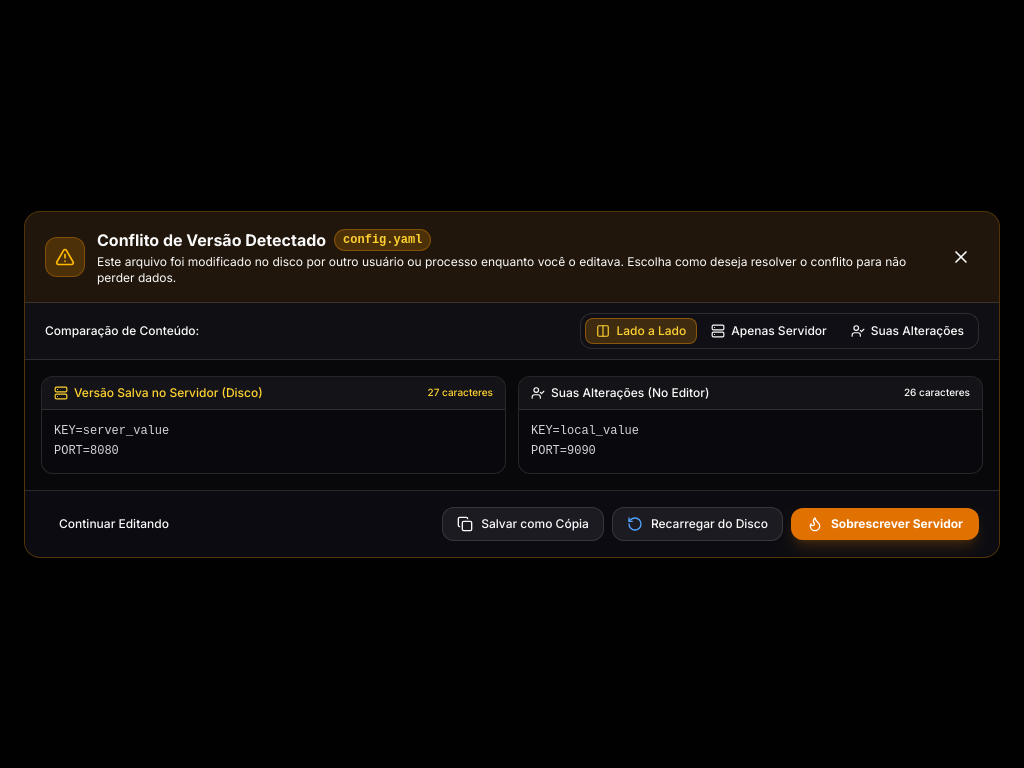
Test: FileConflictModal Component › switches between view modes (split, server-only, local-only)
This screenshot has width=1024, height=768.
Click server only
Click the button "Apenas Servidor" at (769, 330), box [701, 318, 837, 342]
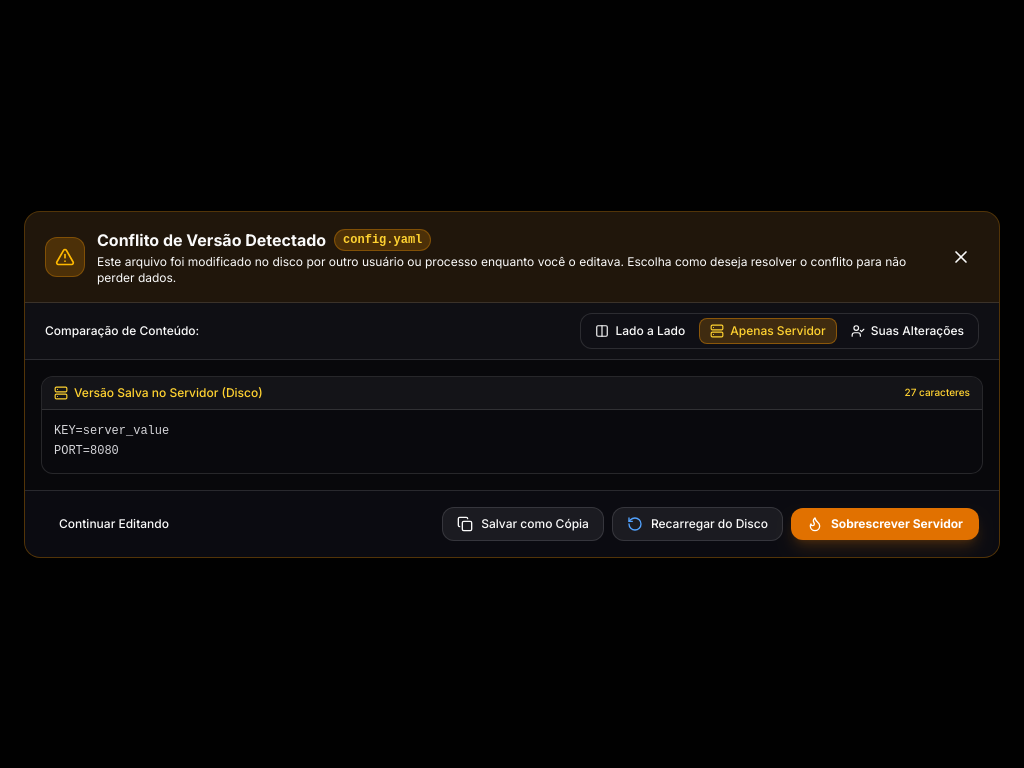
Expected: the text "KEY=server_value PORT=8080" is shown, [54, 424, 169, 457]
Click local only
Click the button "Suas Alterações" at (907, 330), box [841, 318, 974, 342]
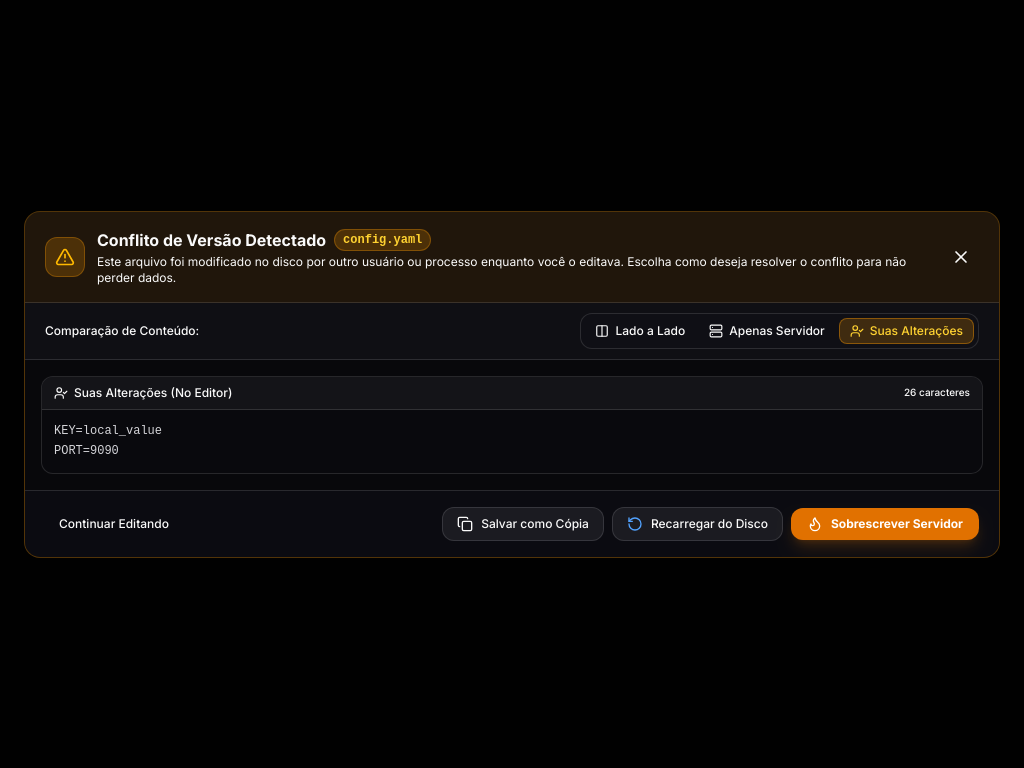
Expected: the text "KEY=local_value PORT=9090" is shown, [54, 424, 162, 457]
Click split view
Click the button "Lado a Lado" at (640, 330), box [586, 318, 695, 342]
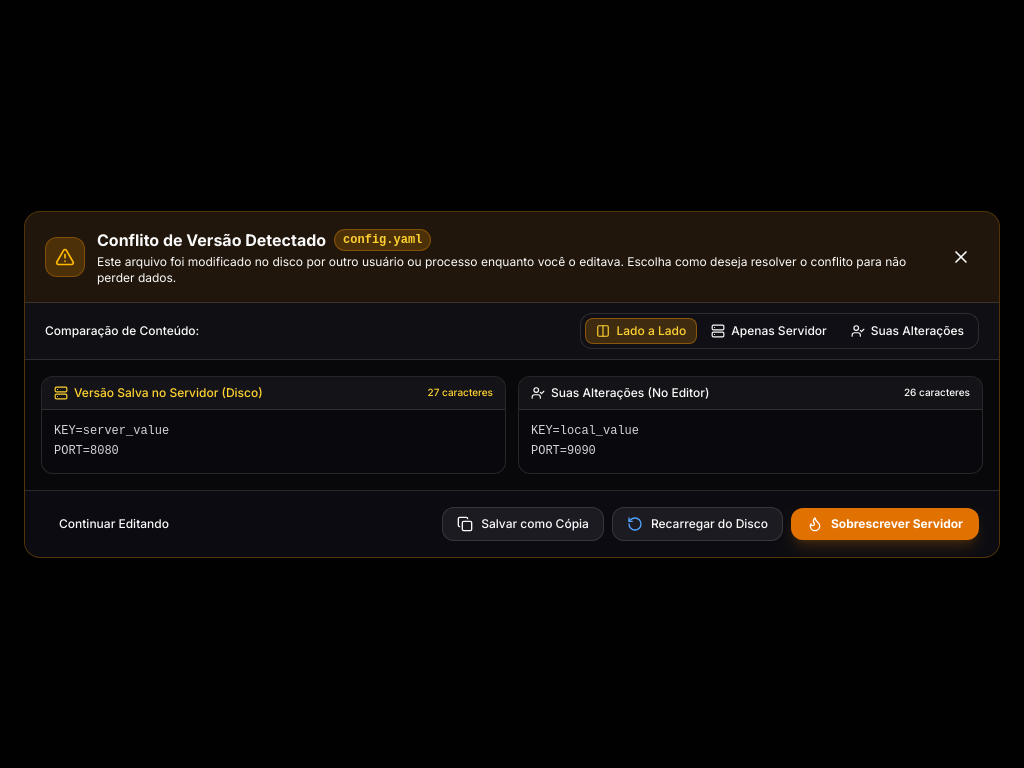
Expected: the text "KEY=local_value PORT=9090" is shown, [531, 424, 639, 457]
Expected: the text "KEY=server_value PORT=8080" is shown, [54, 424, 169, 457]
